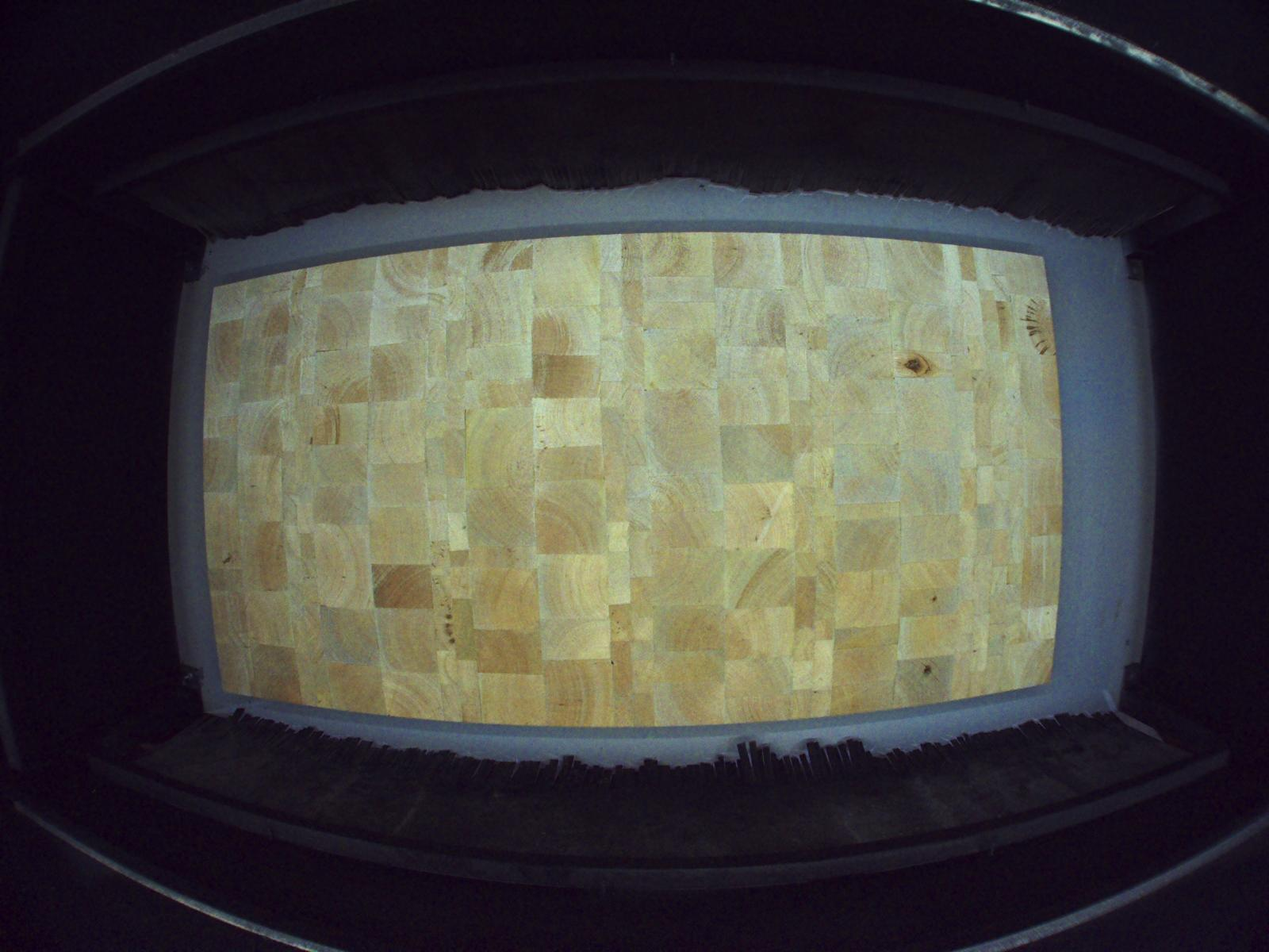nudillo: (893, 349, 932, 380)
